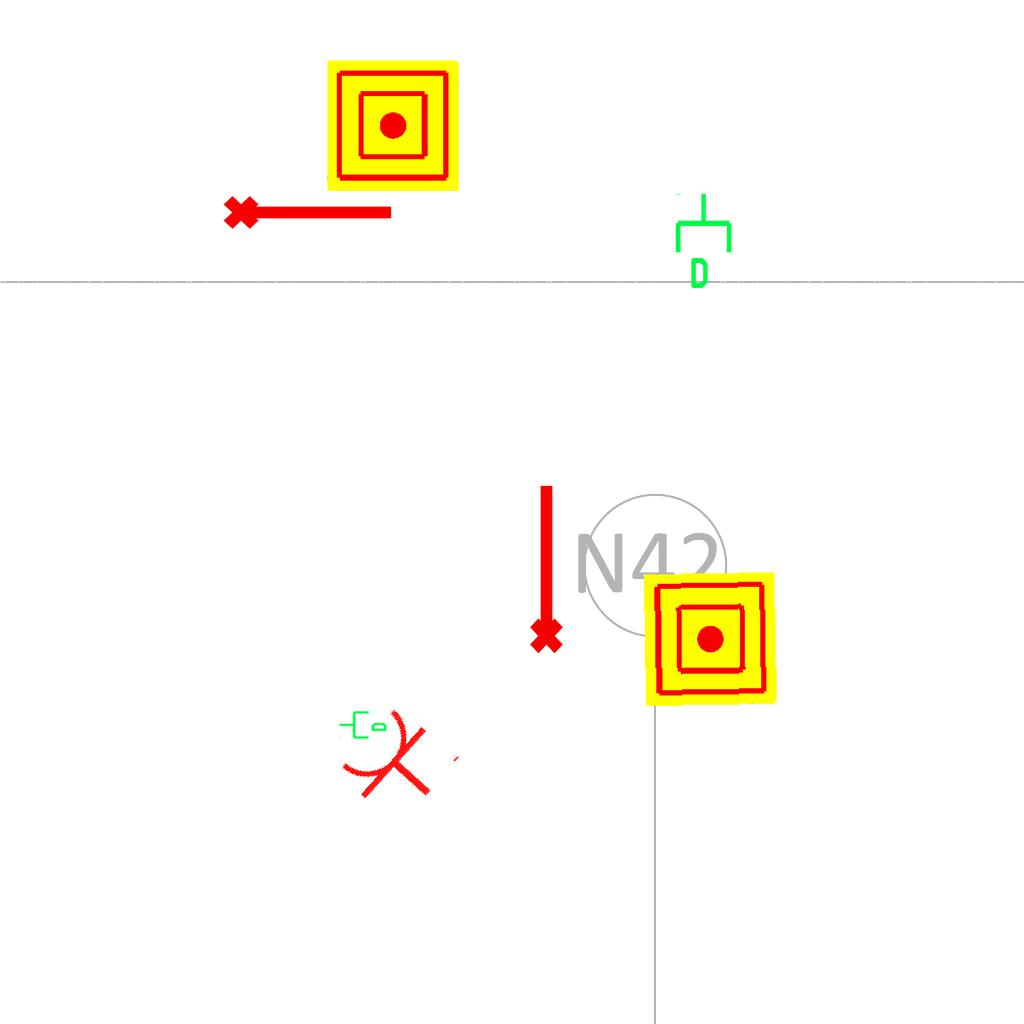ASR_Ansaugoeffnung: (521, 480, 567, 656), (221, 187, 397, 233)
Datenanschluss_einfach: (671, 191, 740, 291), (338, 707, 388, 741)
NAM-Nichtautomatischer_Melder: (642, 571, 778, 707), (327, 60, 459, 192)
Schukosteckdose_einfach: (332, 697, 465, 831)
